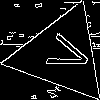V: (36, 29, 94, 77)
